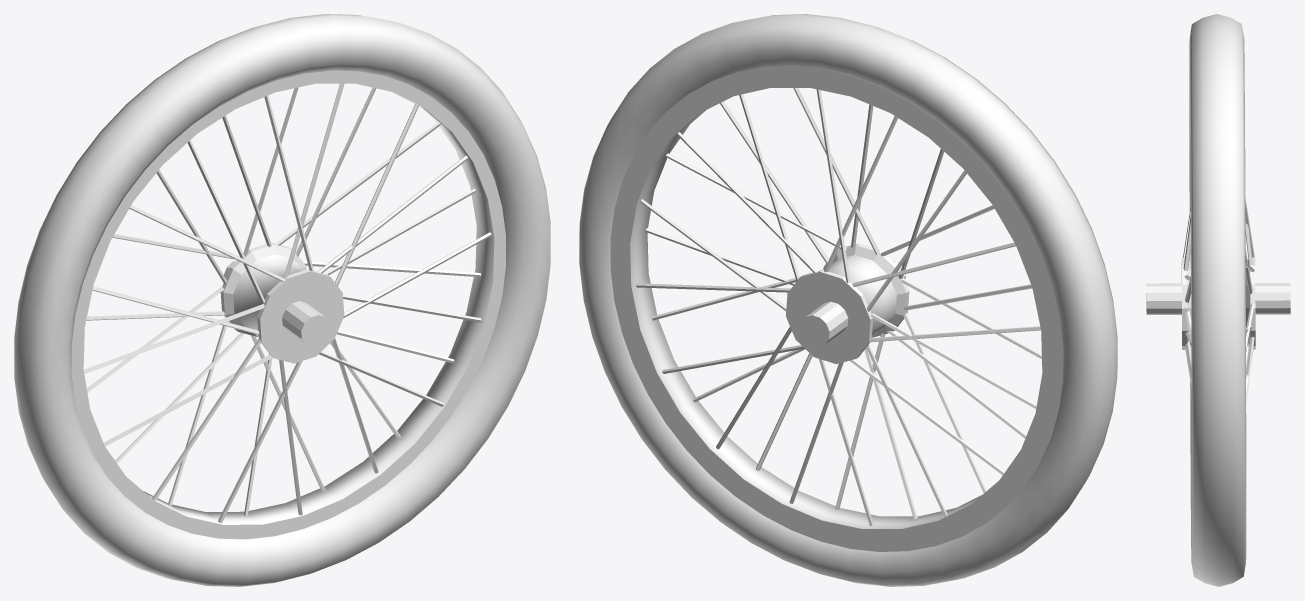
The model's file is bici_ruedatrasera.obj.
3 renders of one model, left to right at view 1: azimuth 30°, elevation 25°; view 2: azimuth 150°, elevation 25°; view 3: azimuth 270°, elevation 25°, orthographic. The views are drawn at different scales.
Parts seen in each view (by area): view 1: Bike:Back_Wheel_003_Torus_006; view 2: Bike:Back_Wheel_003_Torus_006; view 3: Bike:Back_Wheel_003_Torus_006.
Part boxes in pixels (x1,y1,x2,y2): Bike:Back_Wheel_003_Torus_006: (14, 14, 550, 586); Bike:Back_Wheel_003_Torus_006: (579, 14, 1117, 586); Bike:Back_Wheel_003_Torus_006: (1146, 14, 1290, 586).
Bounding box in the file's own units: 0.6151 × 0.6151 × 0.155.
1 material, 1 textured.
